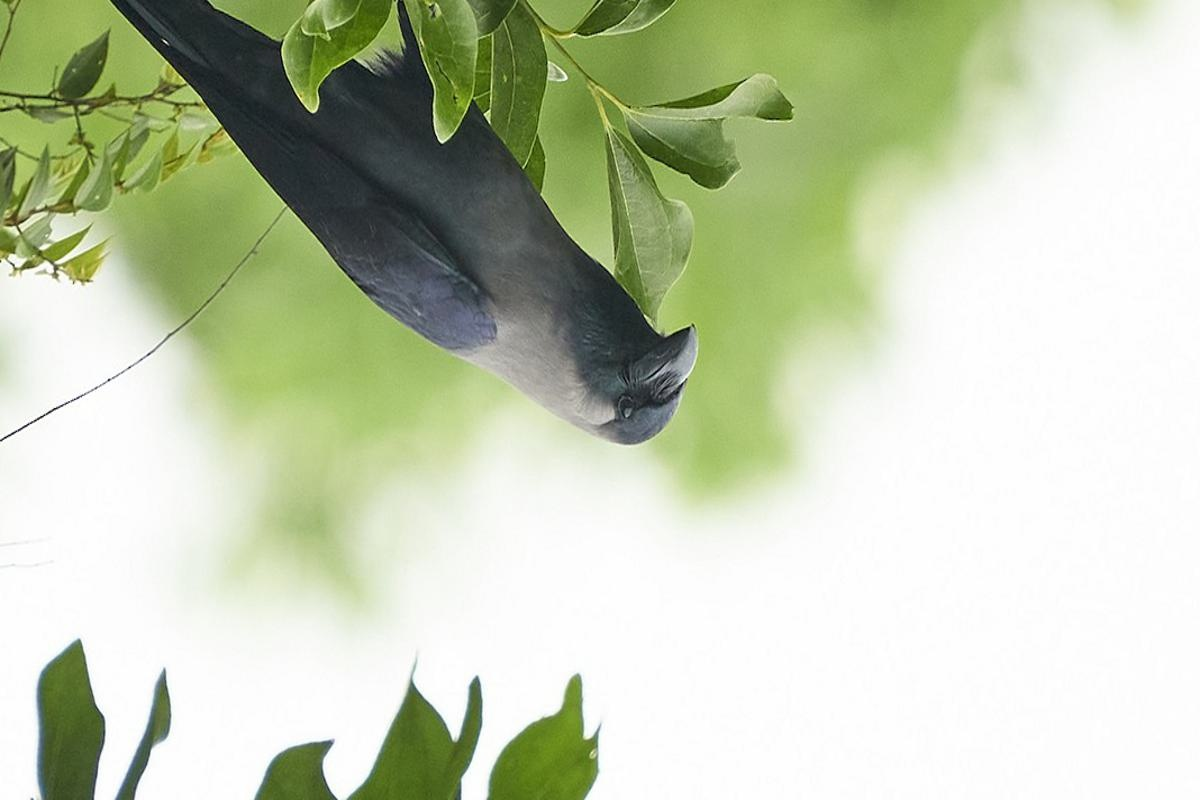crow: (107, 1, 709, 454)
